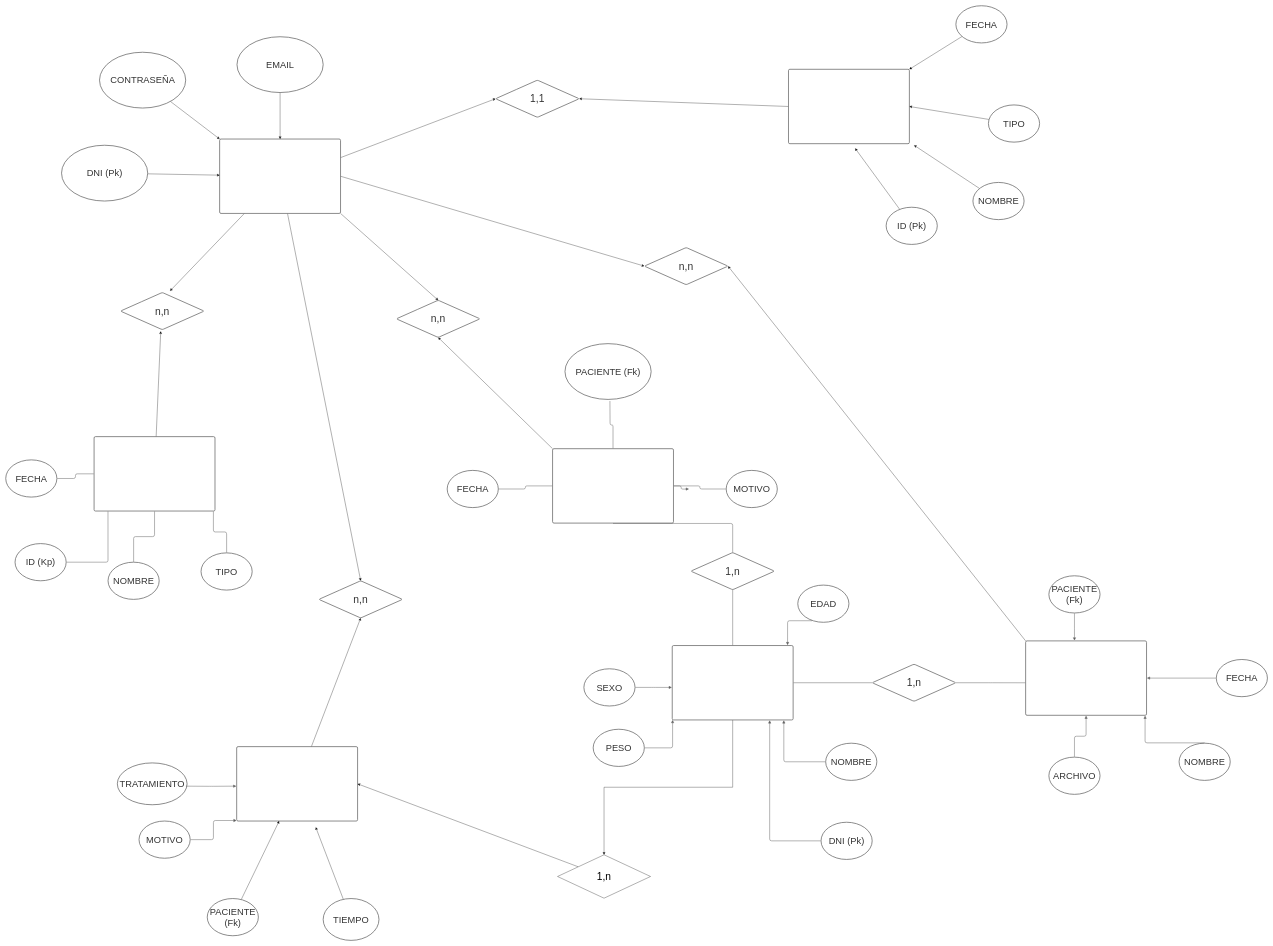
This 1273x946 diagram has some shape labels left out. The centre of each missing label's shape, as x and y in pixels:
"AGENDA" belongs at point 849,106.
"CONGRESOS" belongs at point 154,473.
"HISTORIAL" belongs at point 613,485.
"PACIENTE" belongs at point 732,682.
"RESULTADOS" belongs at point 1086,678.
"TRATAMIENTOS" belongs at point 297,783.
"USUARIOS" belongs at point 280,176.
